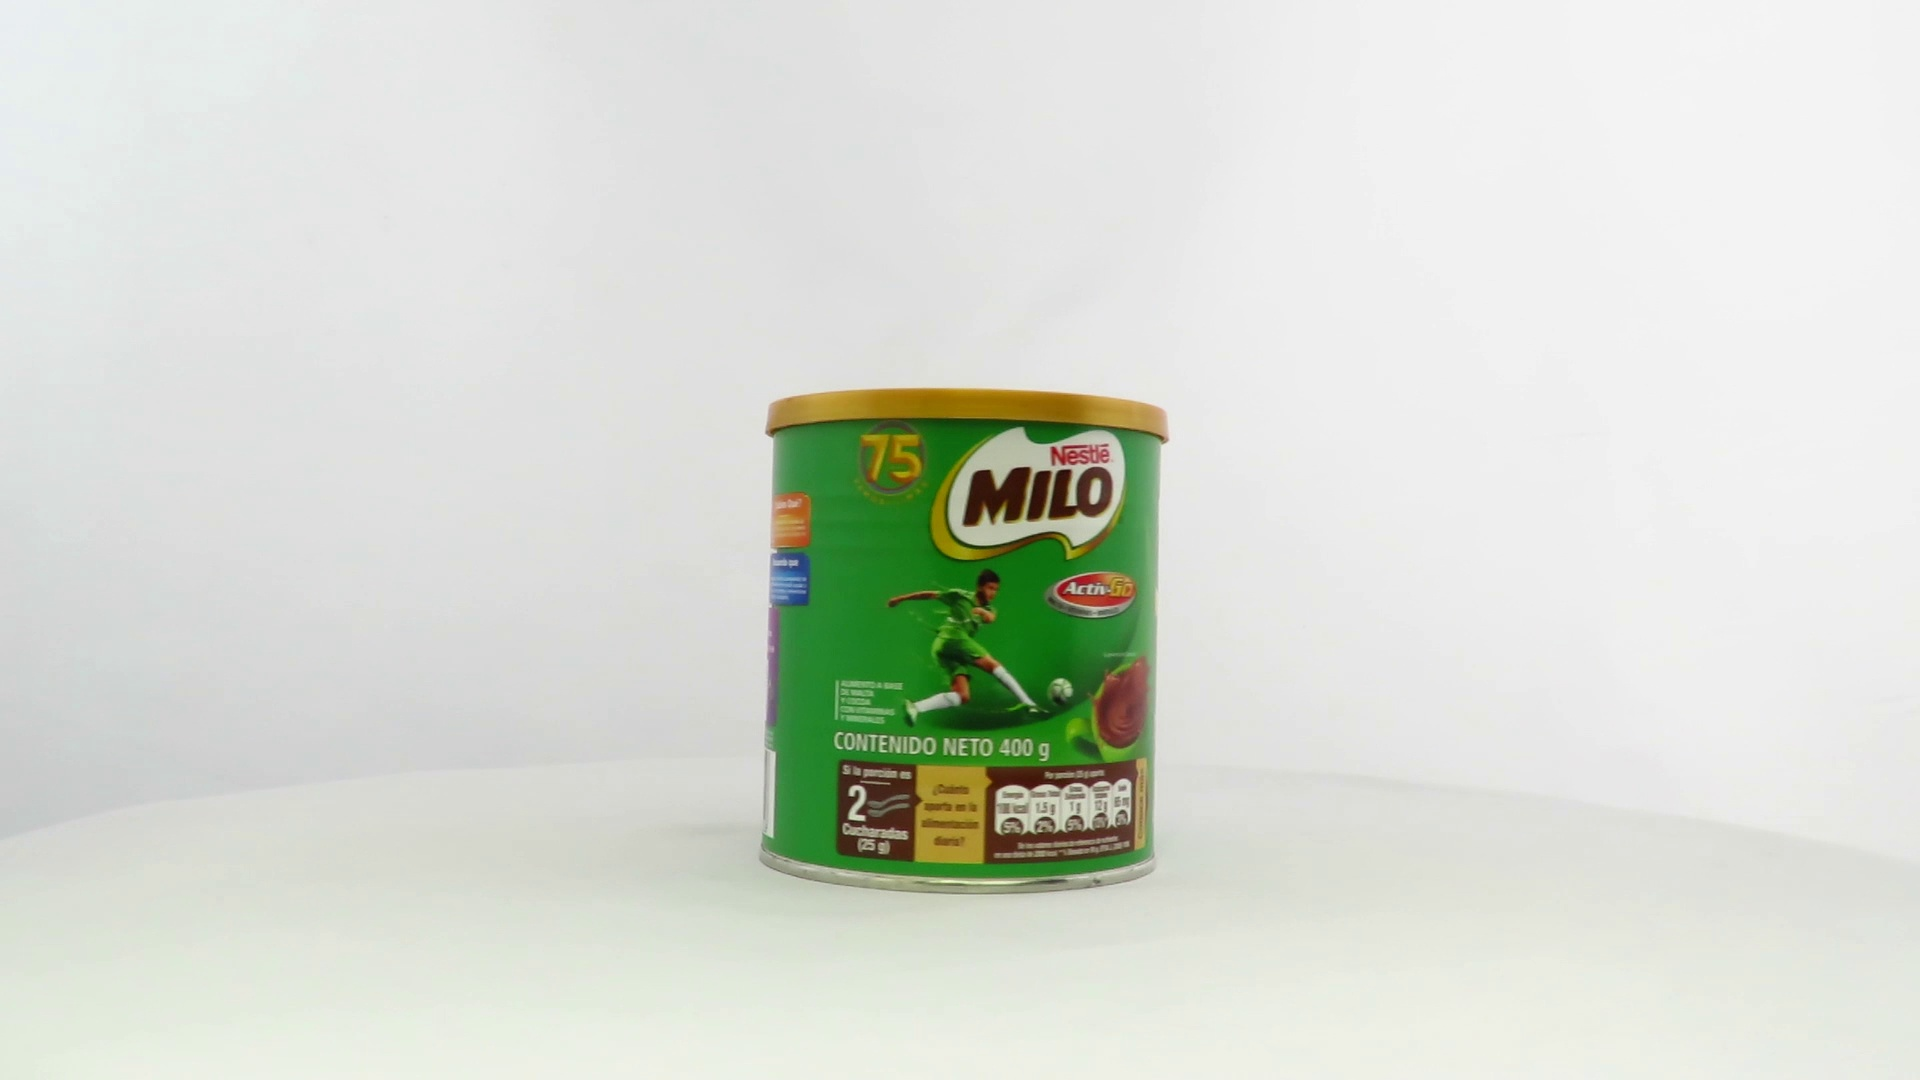COL0170203LAT40000: (754, 382, 1175, 901)
